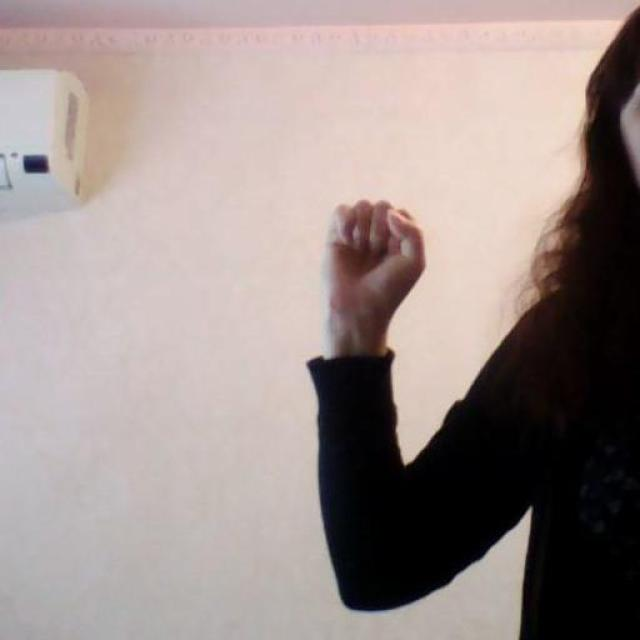hand: (320, 196, 426, 356)
